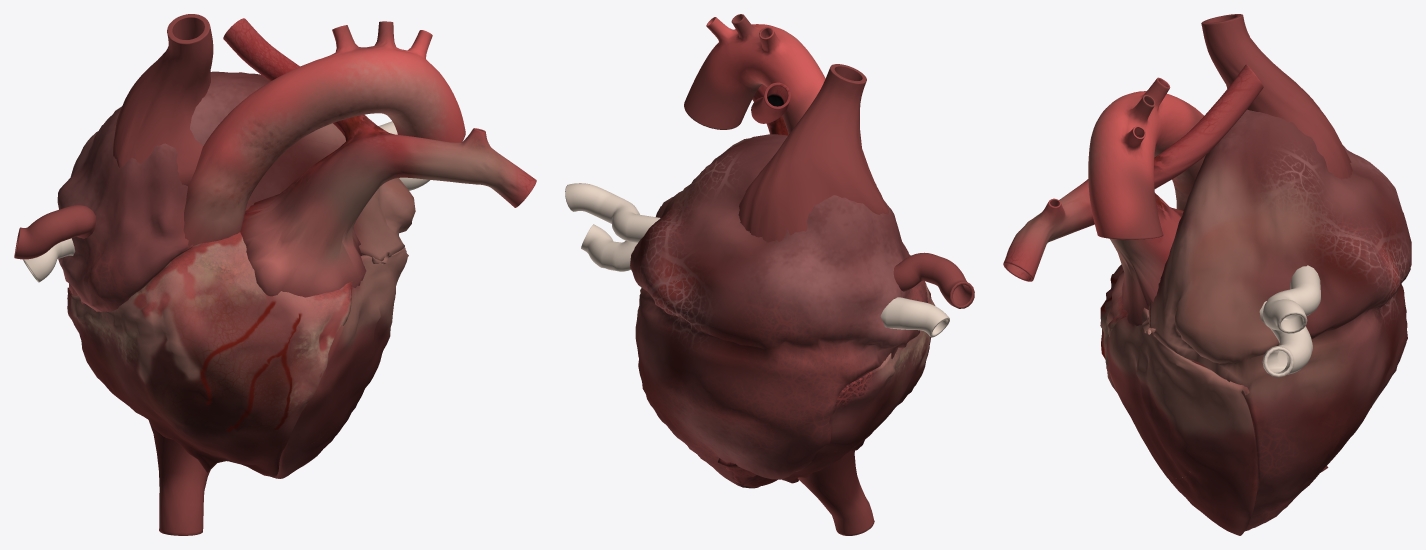
The model's file is heart.fbx.
3 views of the same model, side by side, from view 1: azimuth 30°, elevation 25°; view 2: azimuth 150°, elevation 25°; view 3: azimuth 270°, elevation 25° (orthographic). The views are drawn at different scales.
Parts seen in each view (by area): view 1: Heart010, Heart000, Heart002, Heart001, Heart009, Heart003, Heart008, Heart004, Heart005; view 2: Heart000, Heart003, Heart001, Heart010, Heart008, Heart007, Heart004, Heart005, Heart006, Heart002; view 3: Heart000, Heart009, Heart002, Heart001, Heart003, Heart007, Heart006, Heart010.
Part boxes in pixels (x1,y1,x2,y2): Heart010: (67,232,352,478); Heart000: (57,71,415,311); Heart002: (223,18,536,297); Heart001: (183,21,465,248); Heart009: (270,247,408,478); Heart003: (113,14,213,185); Heart008: (149,421,210,535); Heart004: (14,205,96,259); Heart005: (22,238,75,282); Heart000: (630,134,927,488); Heart003: (738,64,888,242); Heart001: (684,14,825,134); Heart010: (717,282,935,487); Heart008: (797,450,874,535); Heart007: (565,183,660,242); Heart004: (893,252,974,308); Heart005: (880,297,949,337); Heart006: (581,224,637,271); Heart002: (751,82,790,135); Heart000: (1148,109,1411,531); Heart009: (1106,307,1257,535); Heart002: (1003,64,1263,326); Heart001: (1088,77,1205,239); Heart003: (1201,14,1352,179); Heart007: (1262,265,1320,333); Heart006: (1259,301,1312,377); Heart010: (1100,264,1328,472).
Size of what is drawn, in the model's own units: 0.6804 by 0.7664 by 0.5675.
